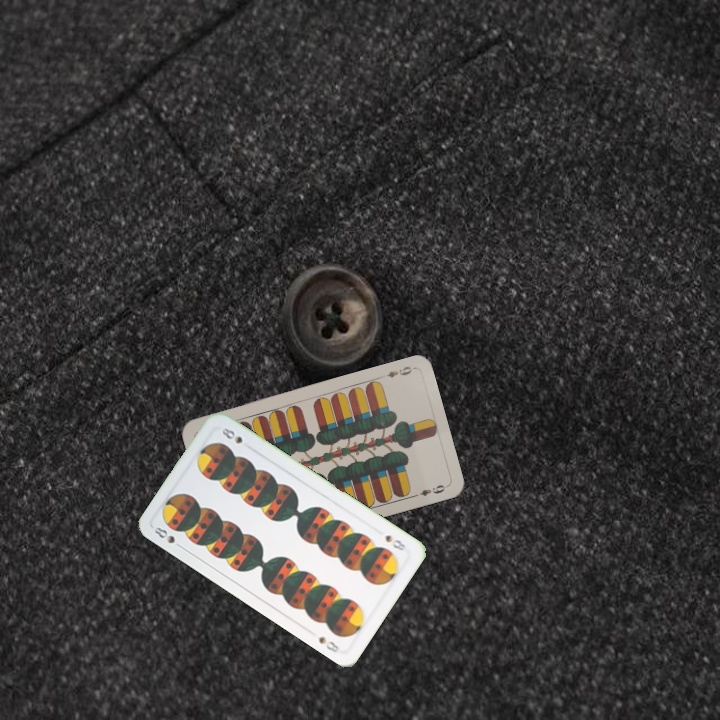E9: (376, 362, 414, 381)
S8: (150, 523, 186, 552), (381, 531, 409, 553)
